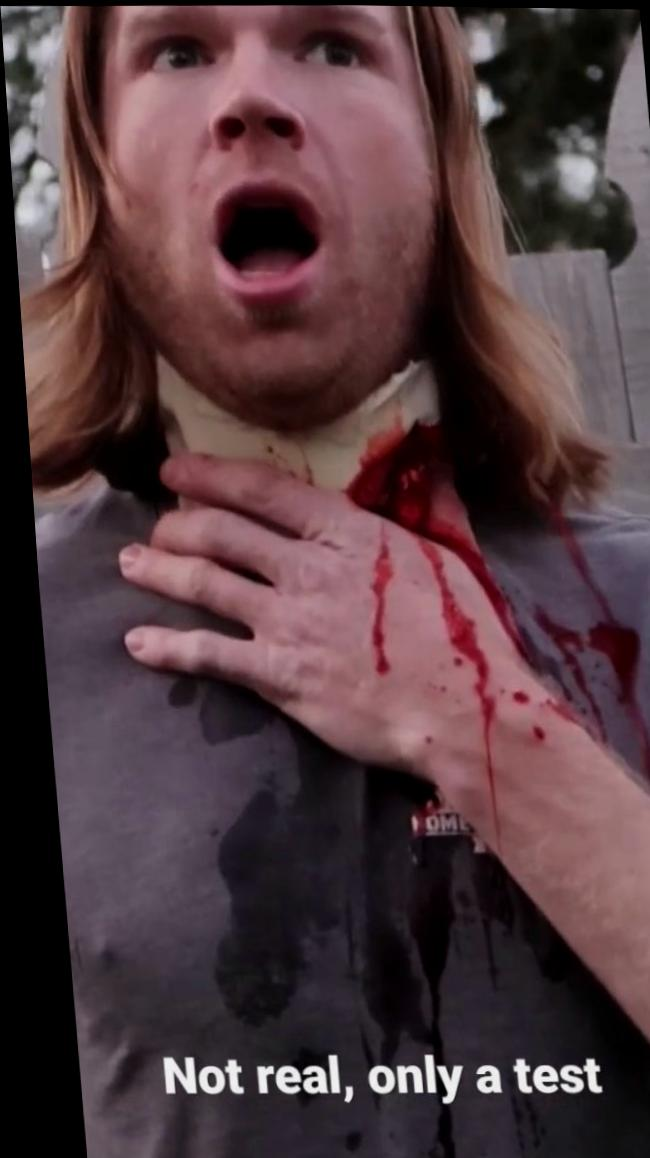Fire: (338, 413, 516, 654), (513, 506, 649, 787), (406, 535, 489, 857), (363, 520, 387, 677), (416, 749, 446, 809)
